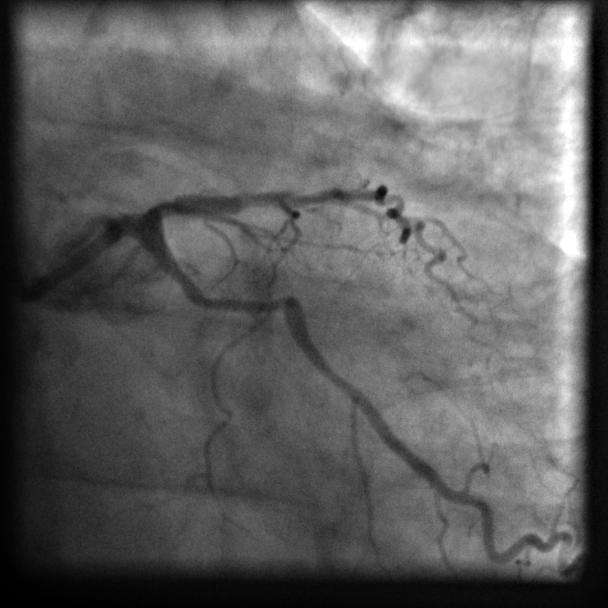Stenosis: (198, 283, 280, 323)
